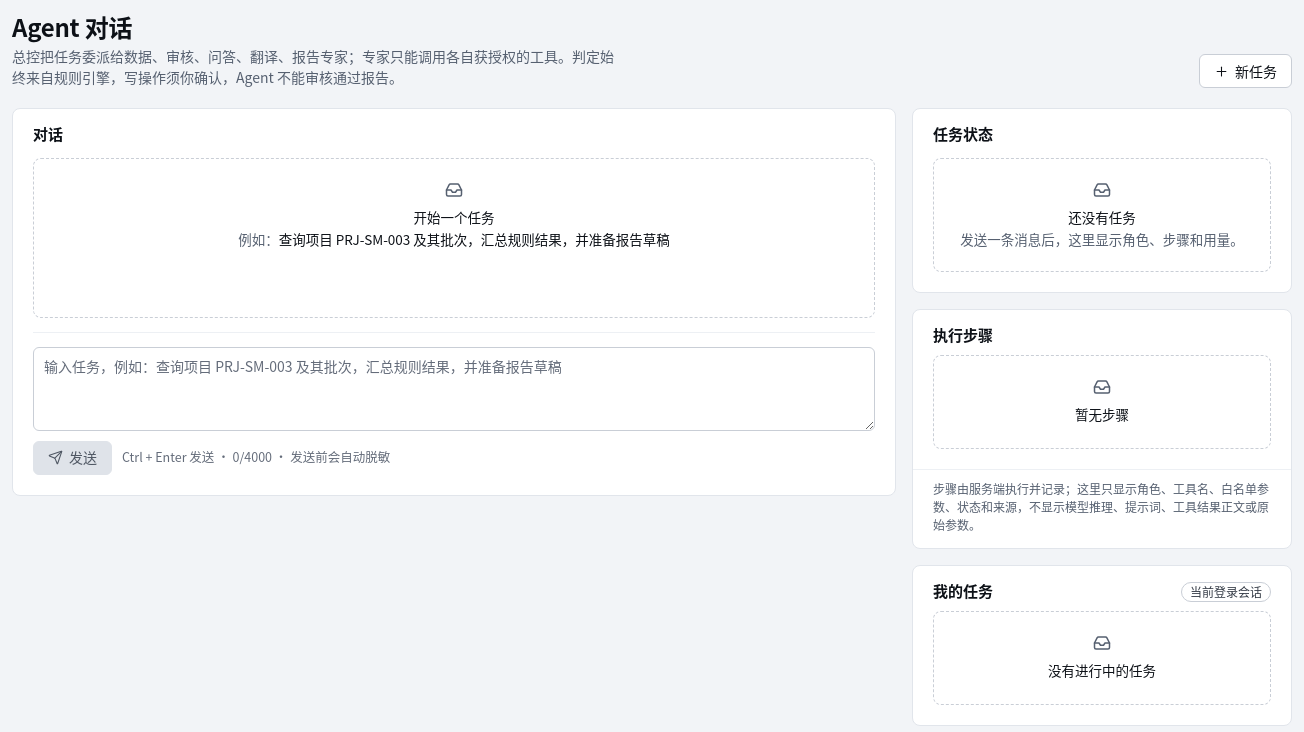
Agent 对话：未启用 › 服务端返回 llm_not_enabled：显示明确提示
Type "你好" into the text box named "消息" at (454, 388), box [33, 346, 875, 430]
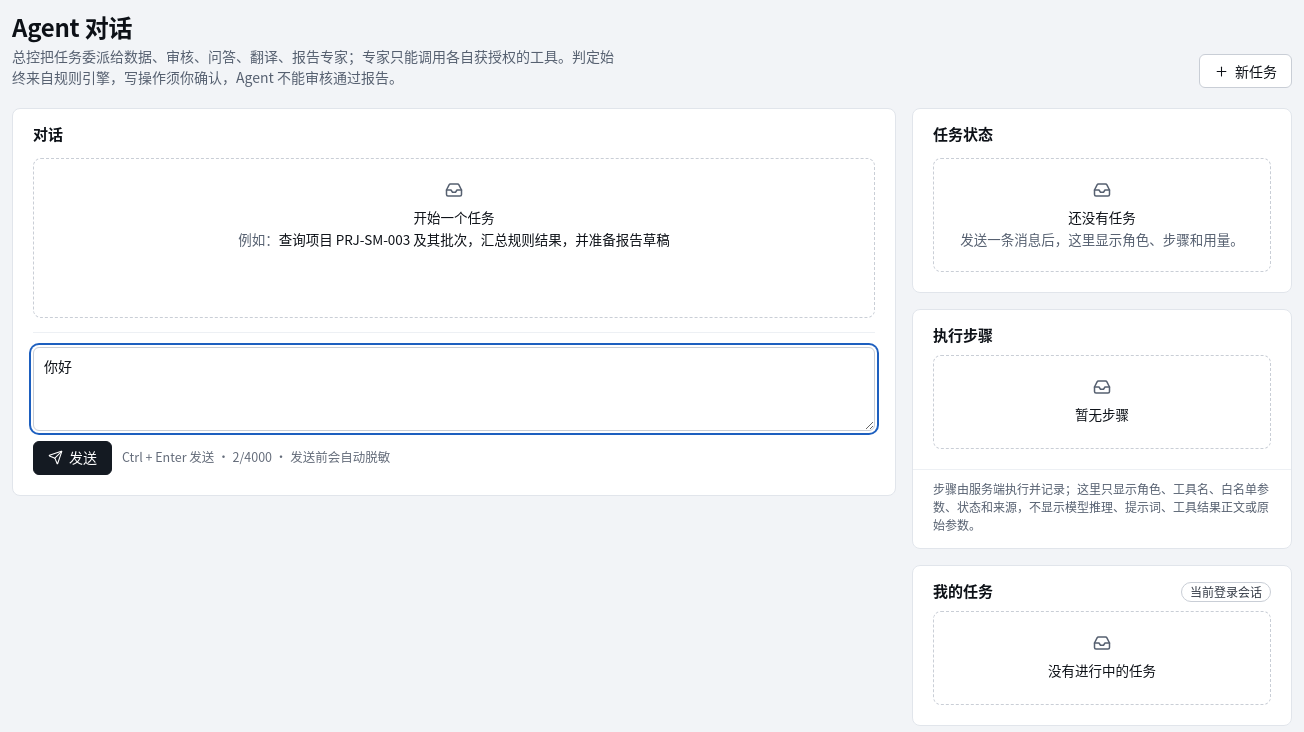
Click the button "发送" at (72, 458), box [33, 440, 112, 474]
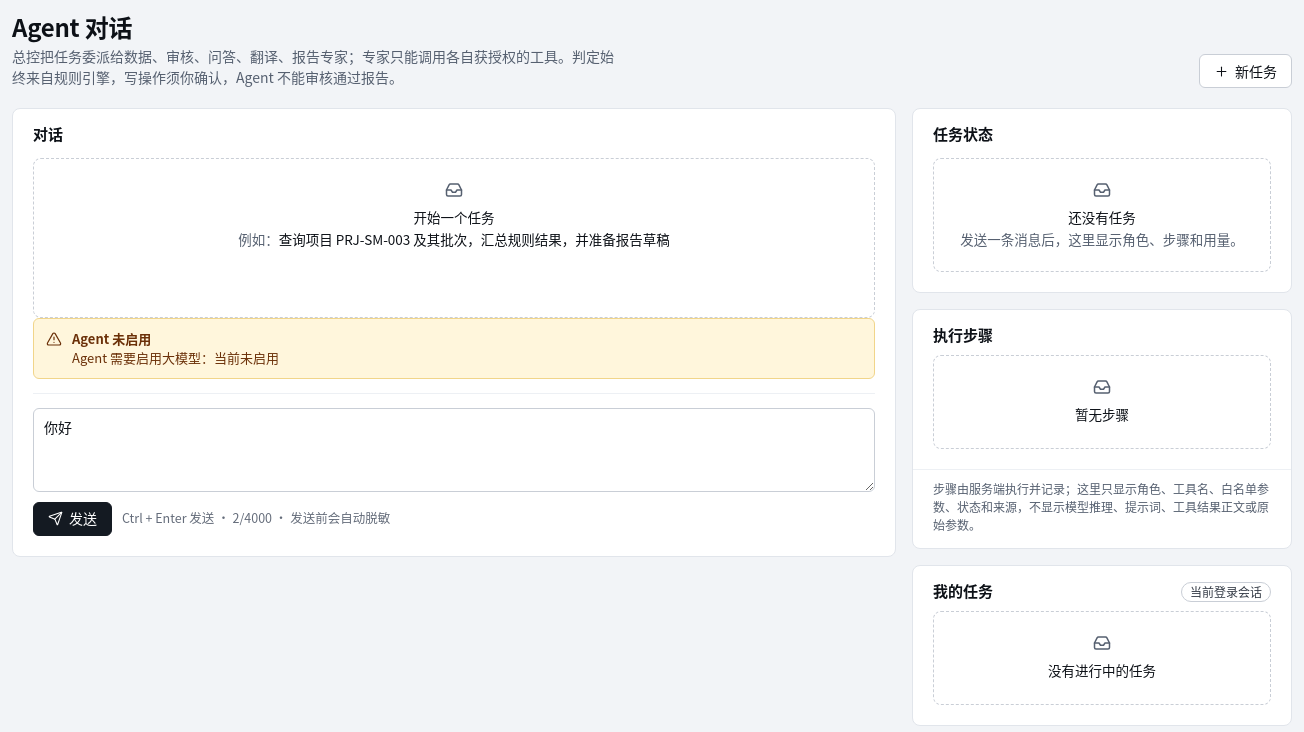
Now the text "Agent 未启用 Agent 需要启用大模型：当前未启用" is shown, box [72, 328, 279, 367]
